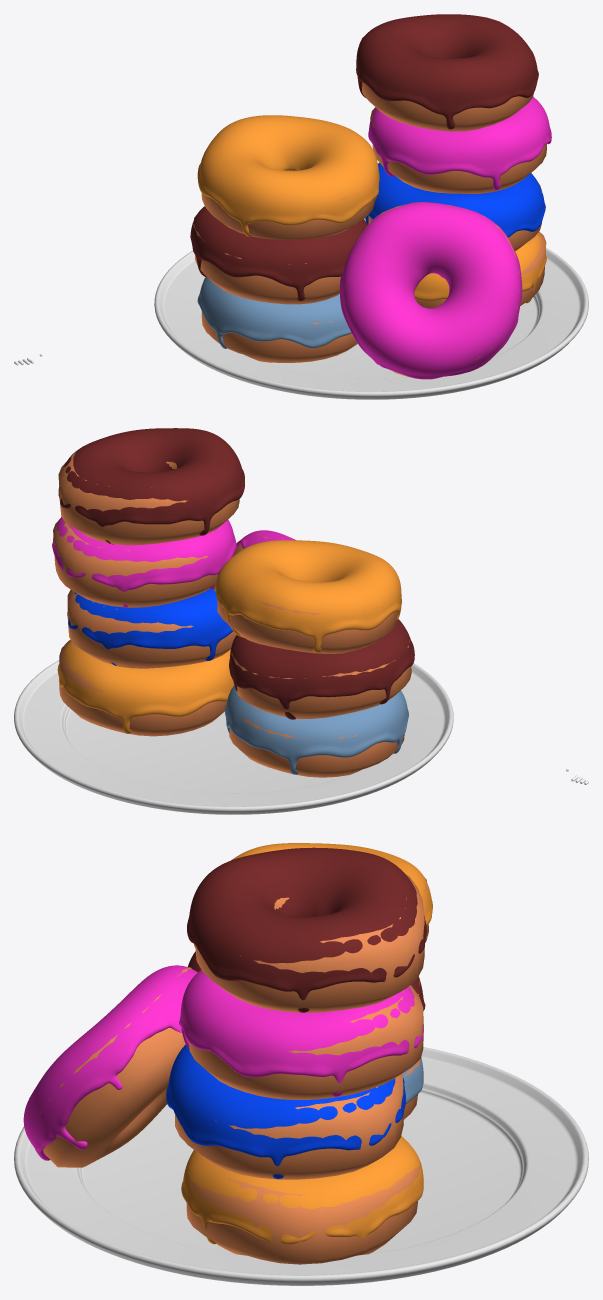
File: donat.glb
3 views of the same model, one above another, from view 1: azimuth 30°, elevation 25°; view 2: azimuth 150°, elevation 25°; view 3: azimuth 270°, elevation 25° (orthographic). The views are drawn at different scales.
Visible parts, largest first — view 1: icing.007, piring, icing.006, icing.004, icing.003, icing.005, icing, icing.002, donat.005, donat.007, donat.004, donat.006 (+3 smaller); view 2: piring, icing.006, icing.004, icing.005, icing.001, icing, icing.003, icing.002, donat.004, donat.005, donat.003, donat.008 (+4 smaller); view 3: piring, icing.004, icing.003, icing.002, icing.007, icing.001, donat.002, donat.001, donat.005, donat.003, donat.004, icing.006 (+1 smaller).
Boxes of the visible parts, x1=… form: icing.007: x1=340, y1=202, x2=522, y2=379; piring: x1=154, y1=218, x2=588, y2=399; icing.006: x1=197, y1=115, x2=379, y2=236; icing.004: x1=356, y1=14, x2=538, y2=129; icing.003: x1=368, y1=96, x2=551, y2=190; icing.005: x1=190, y1=206, x2=367, y2=300; icing: x1=197, y1=277, x2=351, y2=348; icing.002: x1=365, y1=163, x2=545, y2=237; donat.005: x1=359, y1=17, x2=535, y2=131; donat.007: x1=193, y1=215, x2=340, y2=304; donat.004: x1=370, y1=107, x2=546, y2=193; donat.006: x1=201, y1=278, x2=357, y2=362; piring: x1=14, y1=660, x2=453, y2=814; icing.006: x1=214, y1=540, x2=401, y2=652; icing.004: x1=58, y1=428, x2=244, y2=544; icing.005: x1=229, y1=619, x2=414, y2=719; icing.001: x1=57, y1=641, x2=234, y2=733; icing: x1=224, y1=685, x2=408, y2=774; icing.003: x1=52, y1=517, x2=236, y2=607; icing.002: x1=67, y1=588, x2=233, y2=665; donat.004: x1=53, y1=520, x2=217, y2=607; donat.005: x1=58, y1=449, x2=239, y2=545; donat.003: x1=67, y1=589, x2=236, y2=668; donat.008: x1=217, y1=565, x2=396, y2=653; piring: x1=14, y1=1047, x2=588, y2=1285; icing.004: x1=187, y1=847, x2=426, y2=1012; icing.003: x1=179, y1=970, x2=423, y2=1096; icing.002: x1=166, y1=1044, x2=406, y2=1178; icing.007: x1=23, y1=965, x2=197, y2=1160; icing.001: x1=181, y1=1136, x2=423, y2=1244; donat.002: x1=186, y1=1162, x2=421, y2=1264; donat.001: x1=26, y1=967, x2=191, y2=1167; donat.005: x1=195, y1=873, x2=424, y2=1012; donat.003: x1=175, y1=1073, x2=403, y2=1179; donat.004: x1=189, y1=985, x2=423, y2=1099; icing.006: x1=194, y1=843, x2=432, y2=948.
Bounding box in the file's own units: 0.4466 × 0.2068 × 0.3105.
8 materials, 1 textured.
